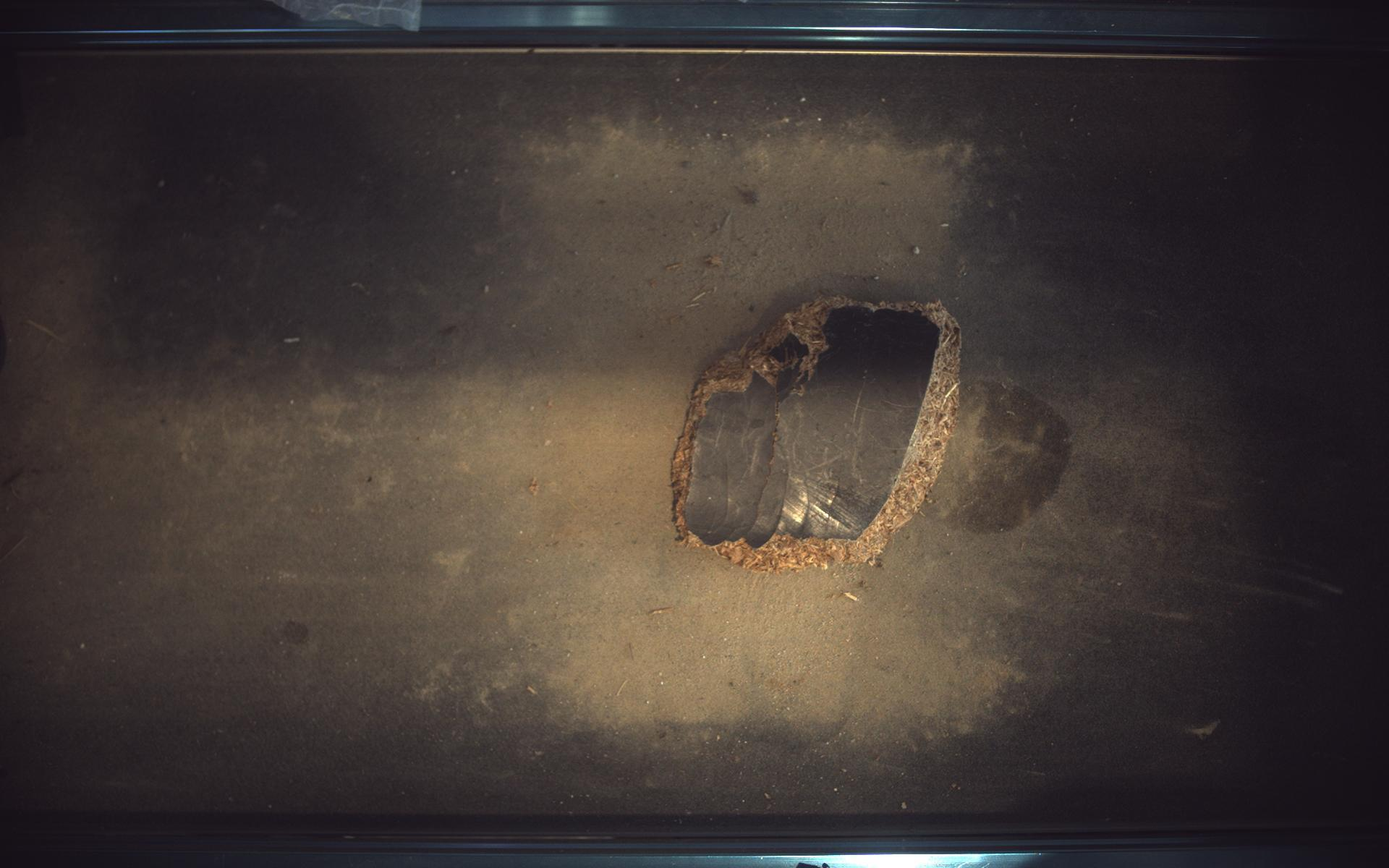wood: (674, 297, 961, 572)
